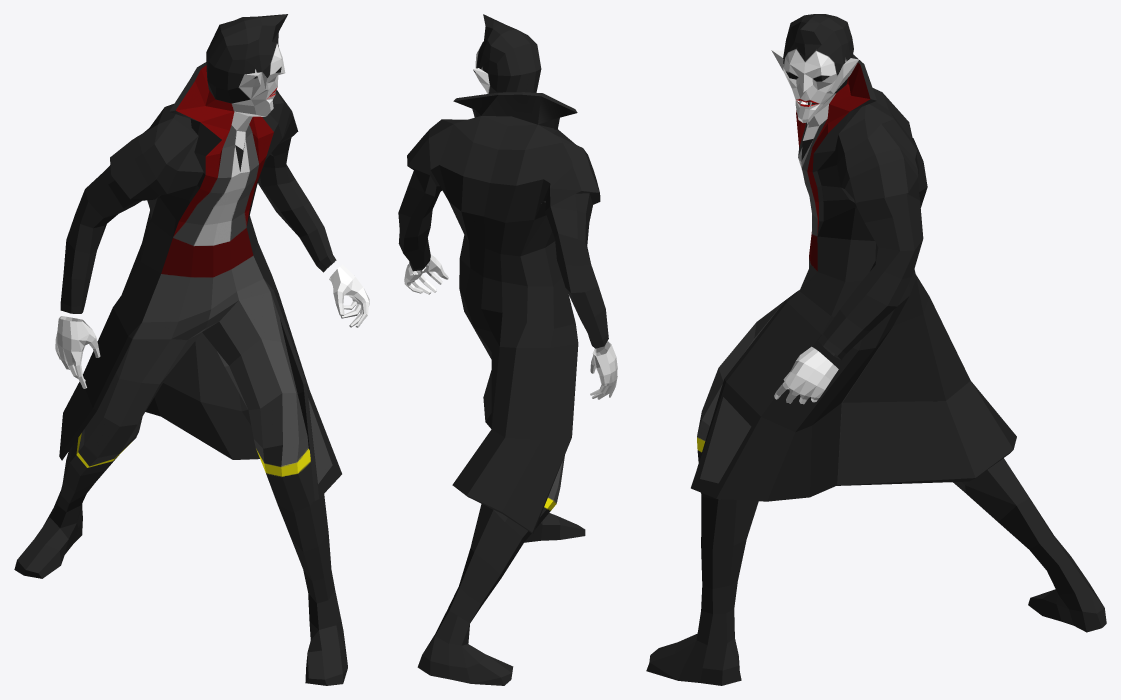
File: VampireIdle(26).obj
The picture shows the model from 3 angles, left to right: view 1: azimuth 30°, elevation 25°; view 2: azimuth 150°, elevation 25°; view 3: azimuth 270°, elevation 25°; orthographic projection. The views are drawn at different scales.
Parts seen in each view (by area): view 1: Plane002; view 2: Plane002; view 3: Plane002.
Boxes of the visible parts, <box> form: Plane002: <box>14,14,369,685</box>; Plane002: <box>398,14,617,685</box>; Plane002: <box>646,14,1106,685</box>.
Bounding box in the file's own units: 139 × 306 × 196.
